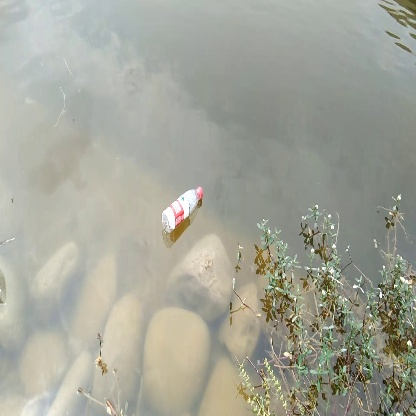bottle: (159, 182, 209, 242)
